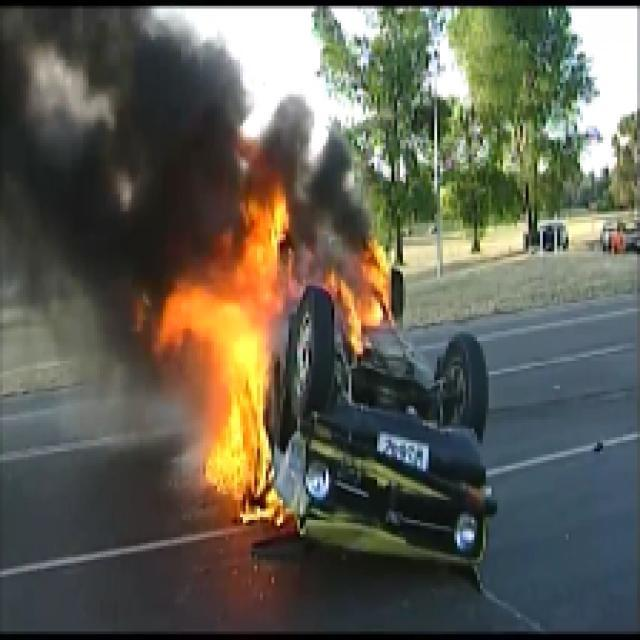Fire: (157, 180, 294, 526), (326, 242, 392, 358)
Smoke: (3, 3, 226, 263)
